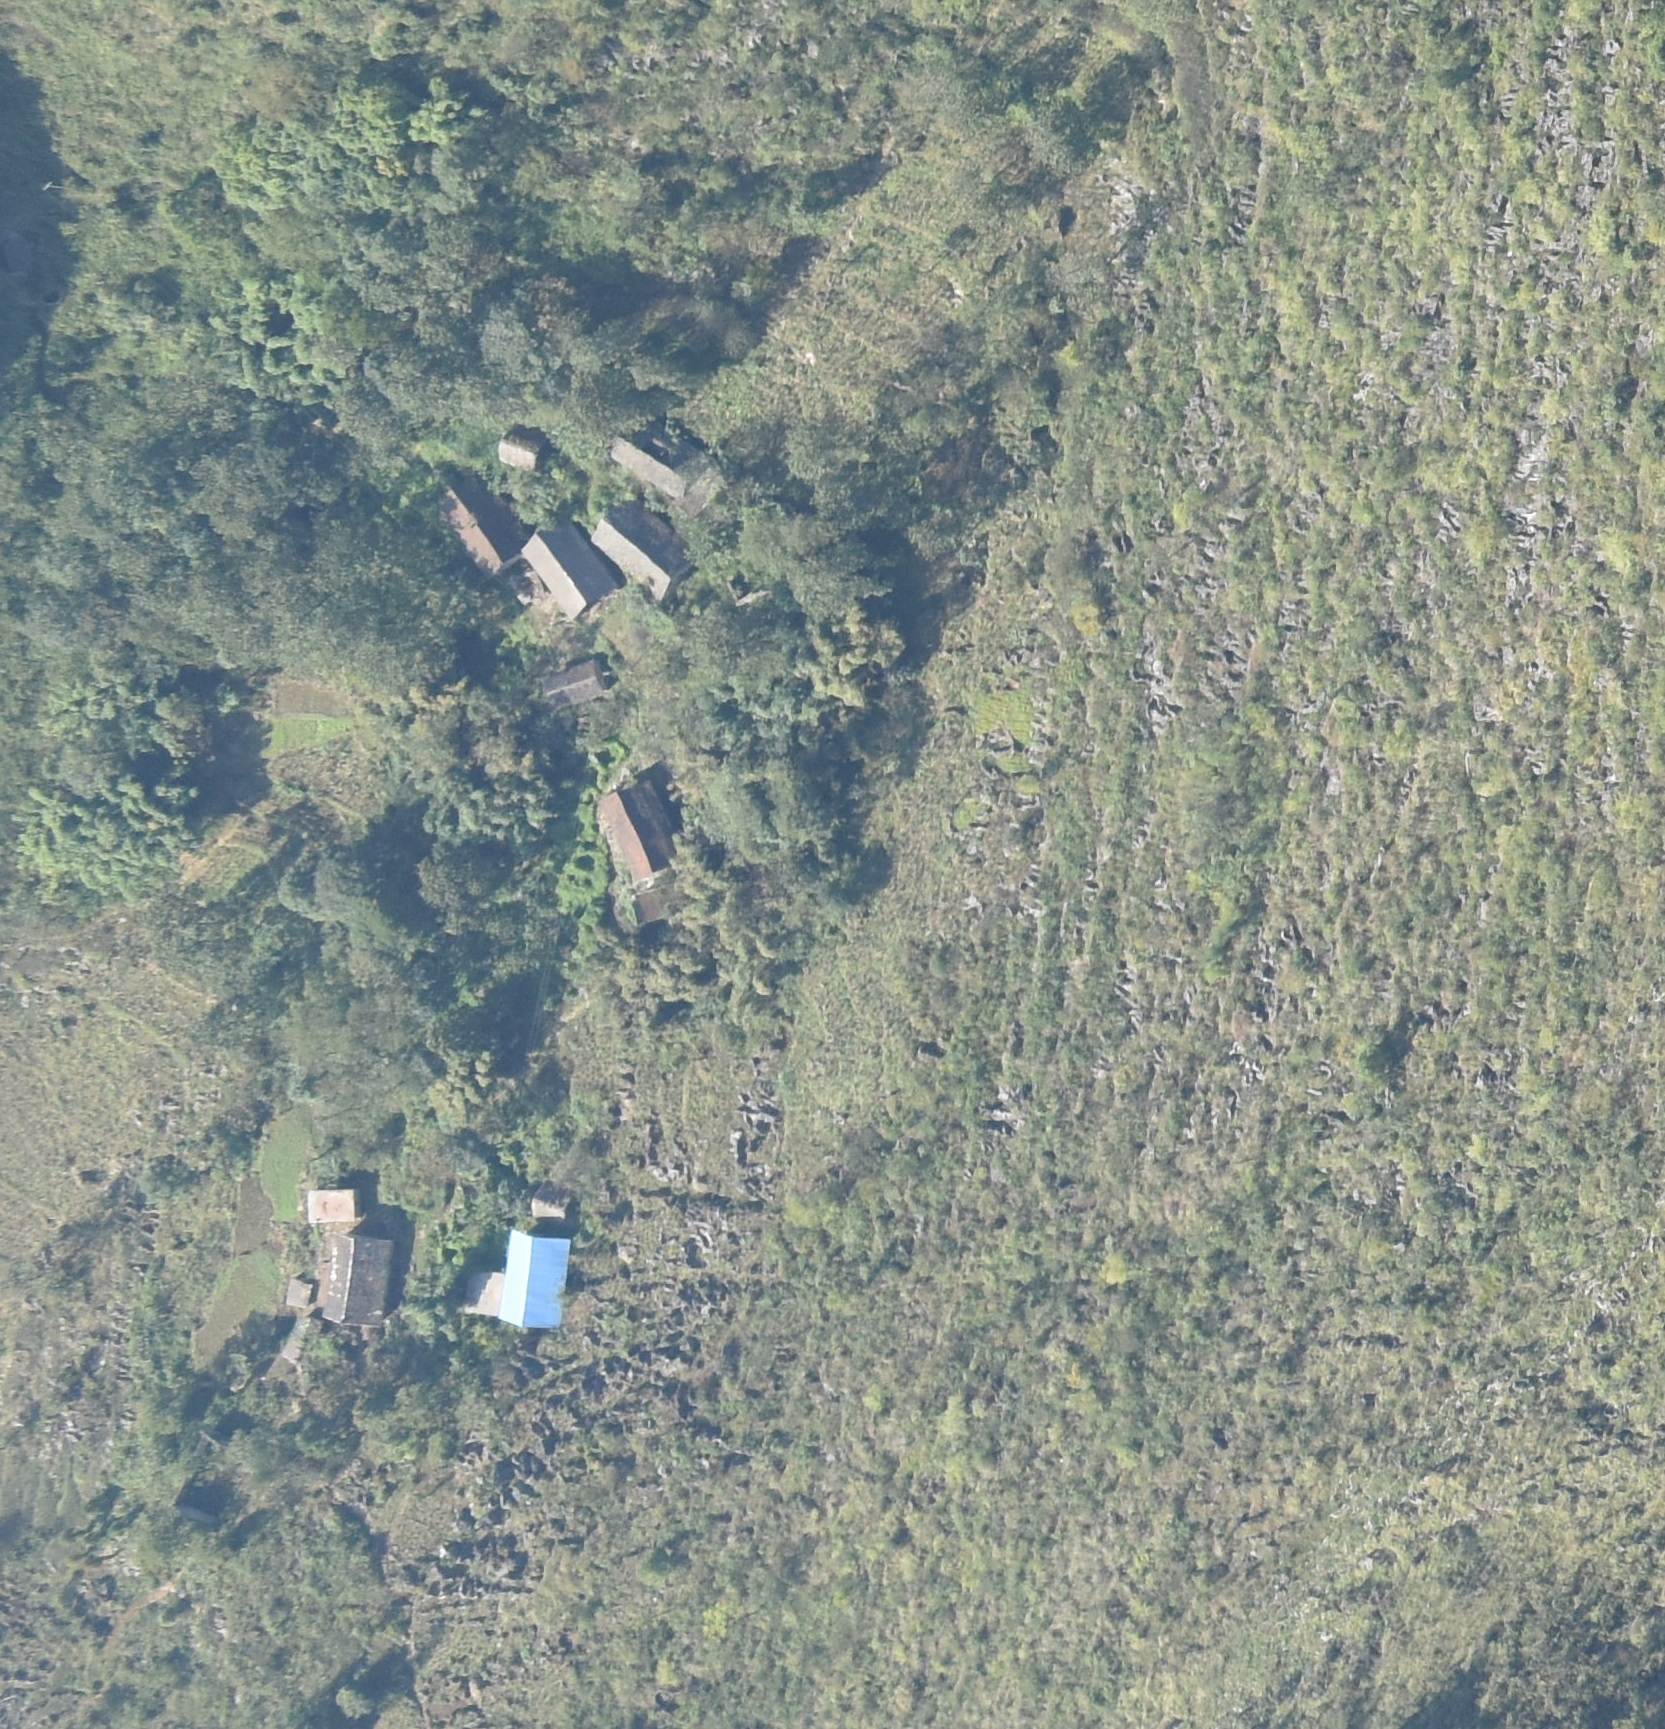building: (593, 503, 693, 596), (434, 475, 522, 576), (596, 780, 676, 883), (518, 525, 610, 611), (324, 1235, 390, 1326), (614, 429, 705, 494), (535, 661, 605, 701), (460, 1267, 502, 1318), (498, 431, 548, 471), (306, 1189, 360, 1224), (284, 1280, 309, 1306)
prefabricated-house: (502, 1230, 569, 1332)
